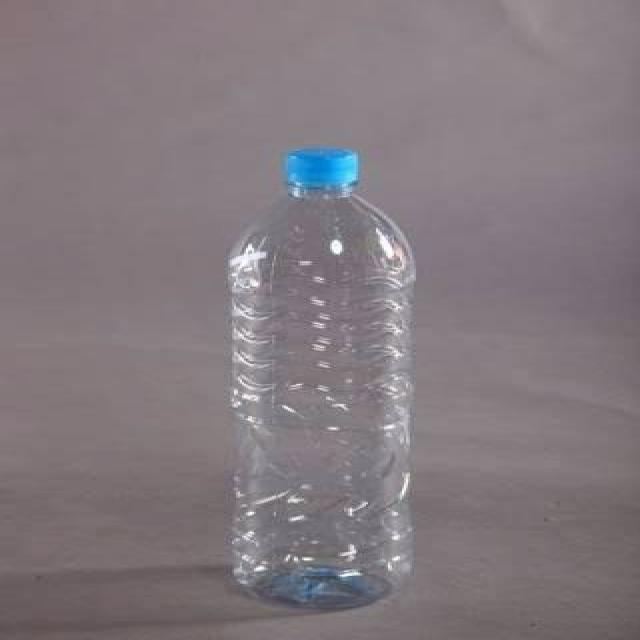plastic bottle: (235, 147, 413, 606)
